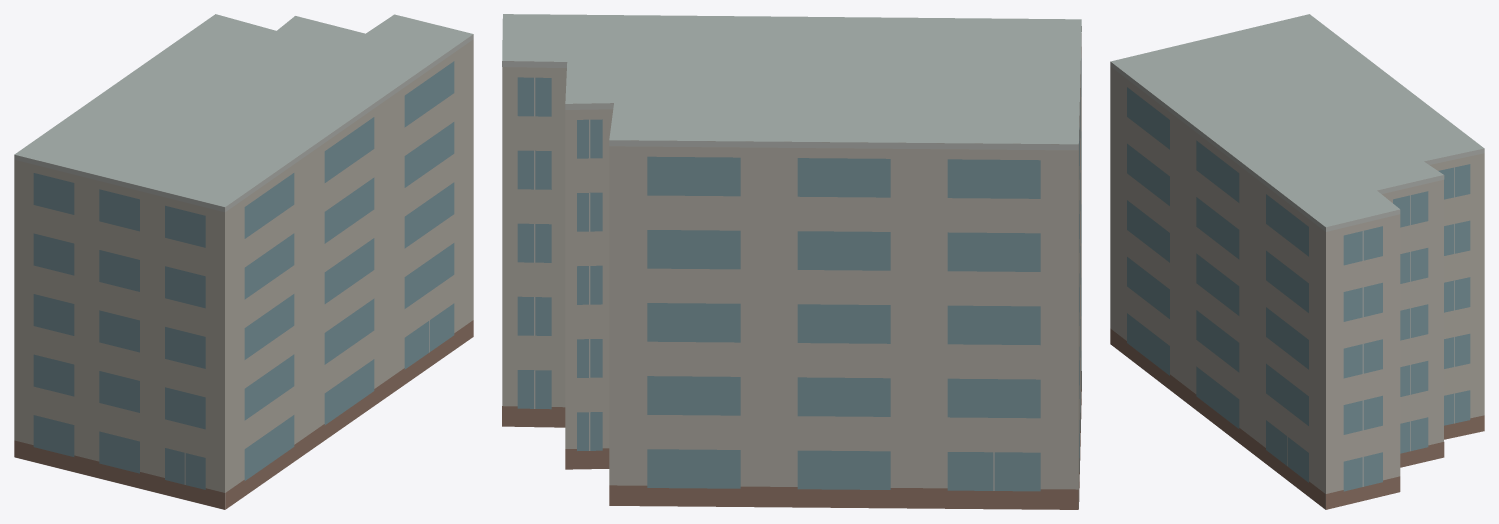
File: survey-upis-33013405.glb
3 views of the same model, side by side, from view 1: azimuth 30°, elevation 25°; view 2: azimuth 150°, elevation 25°; view 3: azimuth 270°, elevation 25° (orthographic). The views are drawn at different scales.
Parts seen in each view (by area): view 1: survey-upis-33013405.tmp; view 2: survey-upis-33013405.tmp; view 3: survey-upis-33013405.tmp.
Part boxes in pixels (x1,y1,x2,y2): survey-upis-33013405.tmp: (14, 14, 473, 509); survey-upis-33013405.tmp: (502, 14, 1081, 509); survey-upis-33013405.tmp: (1110, 14, 1484, 509).
Bounding box in the file's own units: 23.48 × 14.5 × 17.41.
